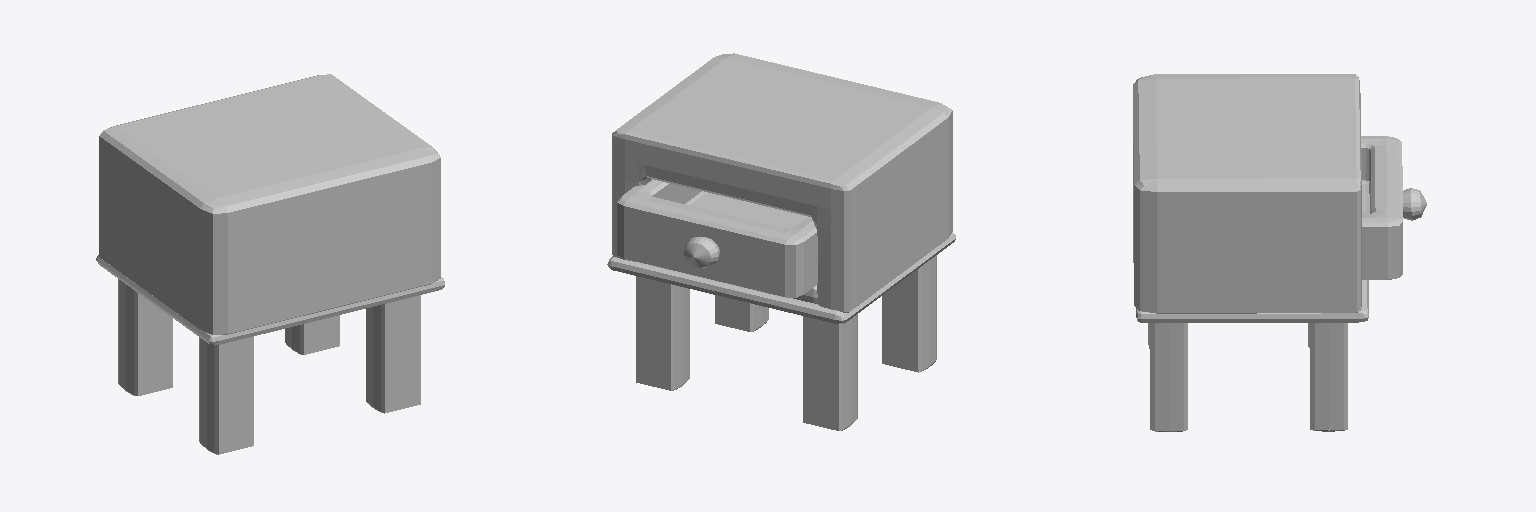
File: nightstand.obj
3 renders of one model, left to right at view 1: azimuth 30°, elevation 25°; view 2: azimuth 150°, elevation 25°; view 3: azimuth 270°, elevation 25°, orthographic.
Visible parts, largest first — view 1: polySurface12; view 2: polySurface12, polySurface13; view 3: polySurface12, polySurface13.
Part boxes in pixels (x1,y1,x2,y2): polySurface12: (96, 74, 444, 454); polySurface12: (607, 53, 955, 430); polySurface13: (617, 179, 817, 297); polySurface12: (1133, 74, 1368, 431); polySurface13: (1361, 136, 1426, 279).
Size of the model in its own units: 8.45 by 8.63 by 9.04.